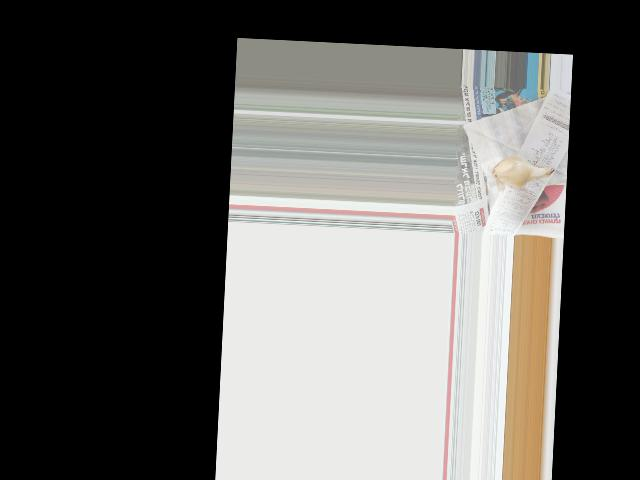onion: (497, 156, 539, 185)
